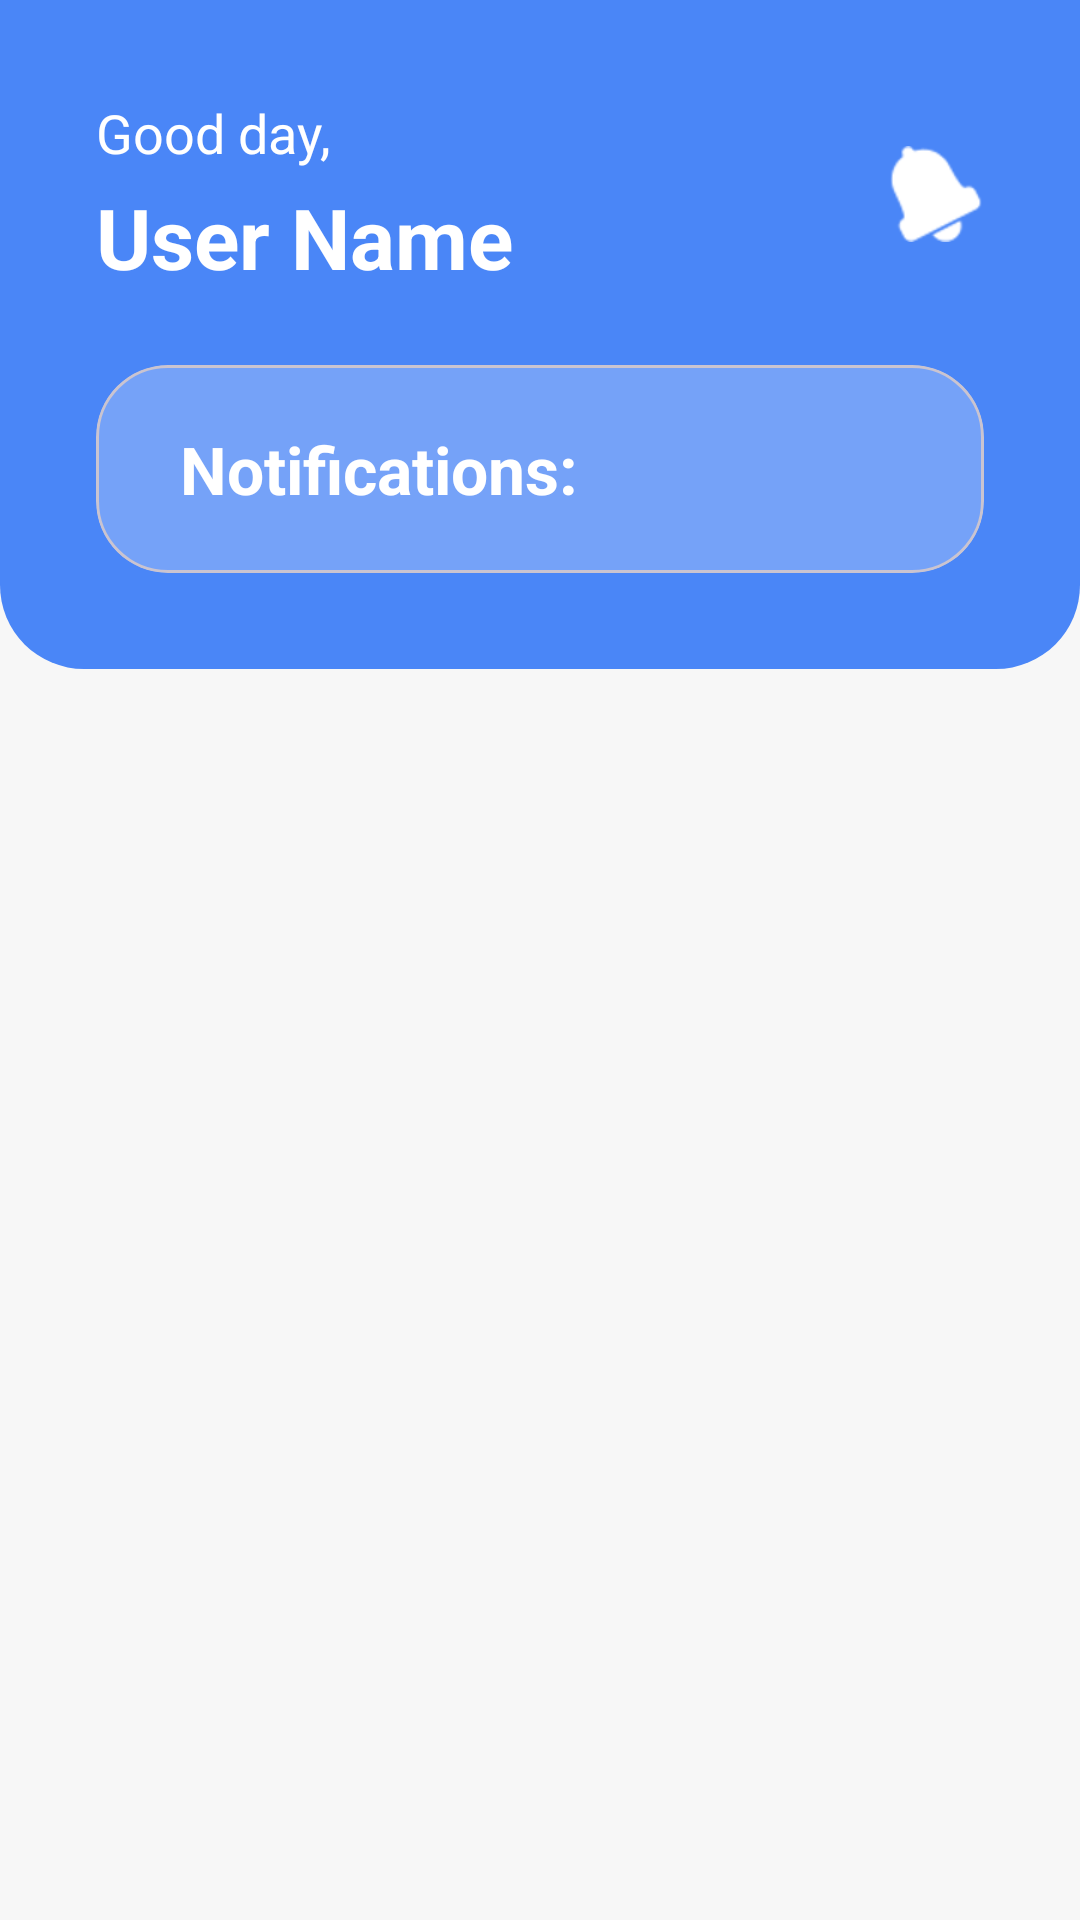

Icon bounding boxes for this 1080 x 1920 phone screenshot, format (x1, y1, x2, y2):
popup reminder: (891, 146, 981, 242)
